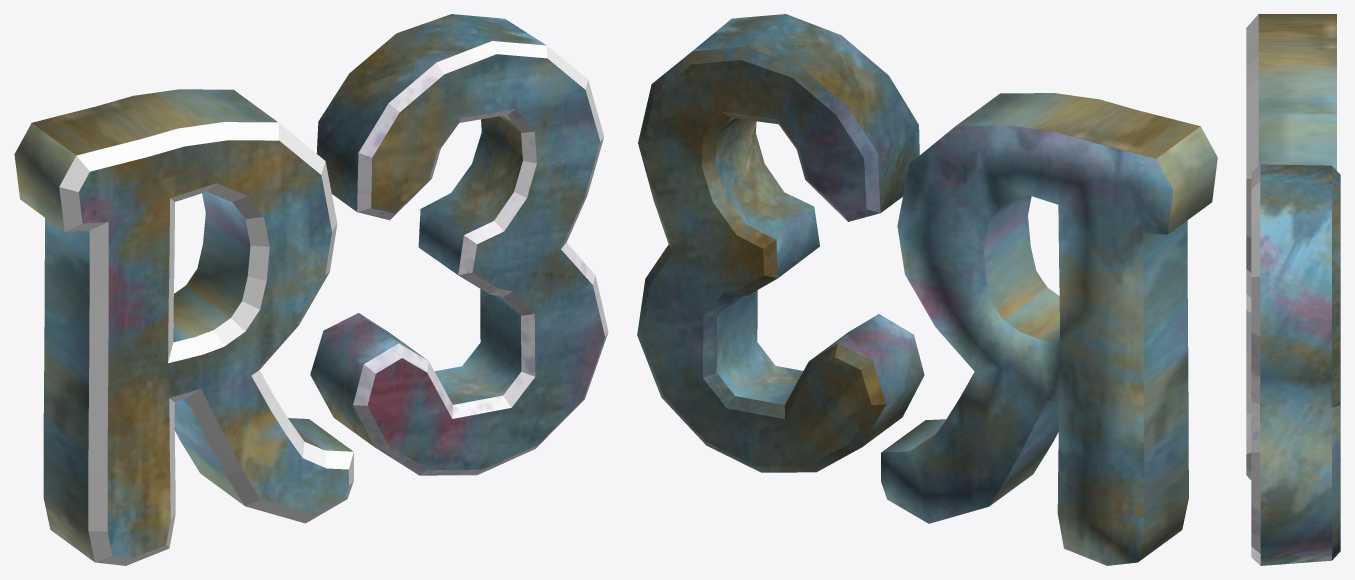
Rendered from button-r03.glb.
3 renders of one model, left to right at view 1: azimuth 30°, elevation 25°; view 2: azimuth 150°, elevation 25°; view 3: azimuth 270°, elevation 25°, orthographic. The views are drawn at different scales.
Parts seen in each view (by area): view 1: ButtonR03; view 2: ButtonR03; view 3: ButtonR03.
Part boxes in pixels (box(x1,y1,x2,y2)): ButtonR03: box(14, 14, 608, 565); ButtonR03: box(637, 14, 1217, 565); ButtonR03: box(1246, 14, 1340, 565).
Size of the model in its own units: 0.2296 by 0.1738 by 0.0389.
2 materials, 2 textured.
